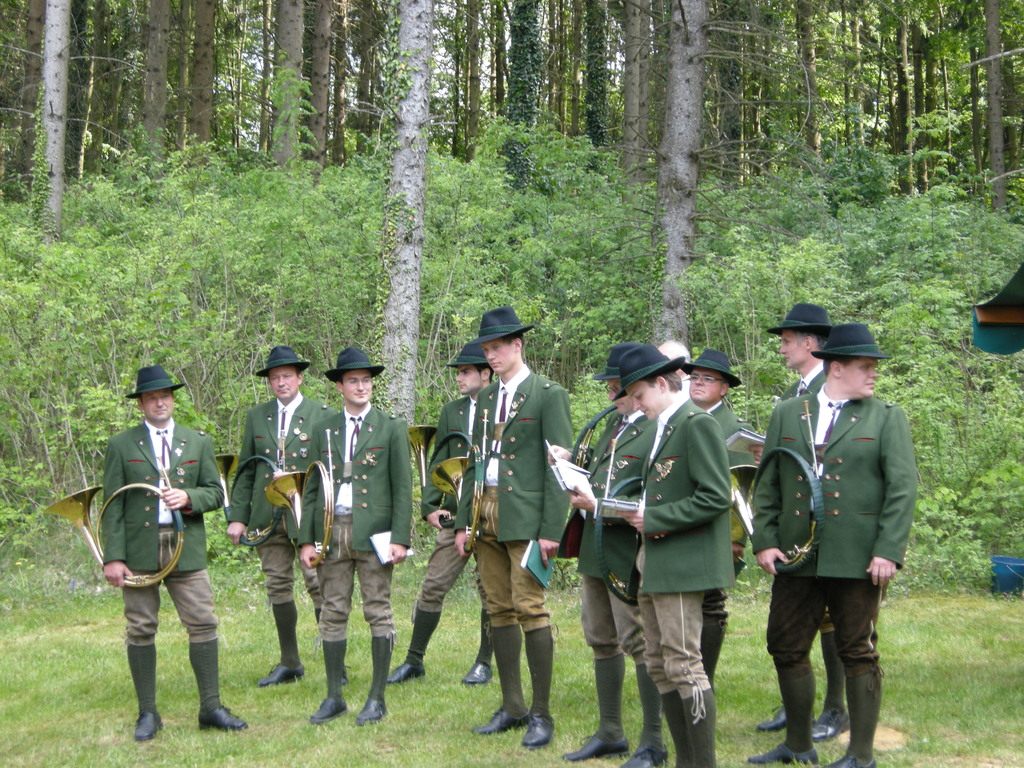Person: (103, 303, 917, 767)
